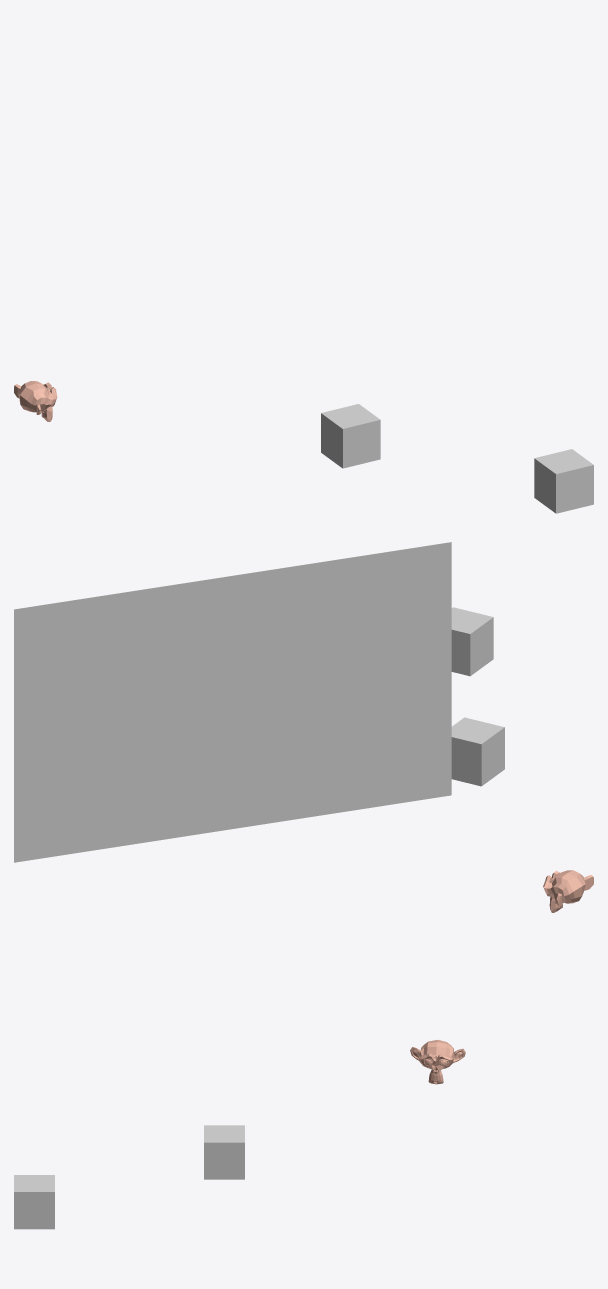
Rendered from plano2.glb.
3 renders of one model, top to bottom at view 1: azimuth 30°, elevation 25°; view 2: azimuth 150°, elevation 25°; view 3: azimuth 270°, elevation 25°, orthographic. The views are drawn at different scales.
Parts seen in each view (by area): view 1: Cube.002, Cube.001, Suzanne; view 2: Screen, Cube.002, Cube.001, Suzanne; view 3: Cube.001, Cube.002, Suzanne.
Part boxes in pixels (x1,y1,x2,y2): Cube.002: [321, 404, 380, 468]; Cube.001: [534, 449, 593, 513]; Suzanne: [14, 381, 57, 421]; Screen: [14, 542, 451, 862]; Cube.002: [451, 717, 504, 786]; Cube.001: [451, 607, 493, 676]; Suzanne: [543, 870, 593, 912]; Cube.001: [14, 1175, 54, 1229]; Cube.002: [204, 1125, 244, 1179]; Suzanne: [410, 1040, 465, 1084].
Size of what is drawn, in the model's own units: 23.8 by 12.17 by 28.32.
Materials: 1 (1 with a texture image).
